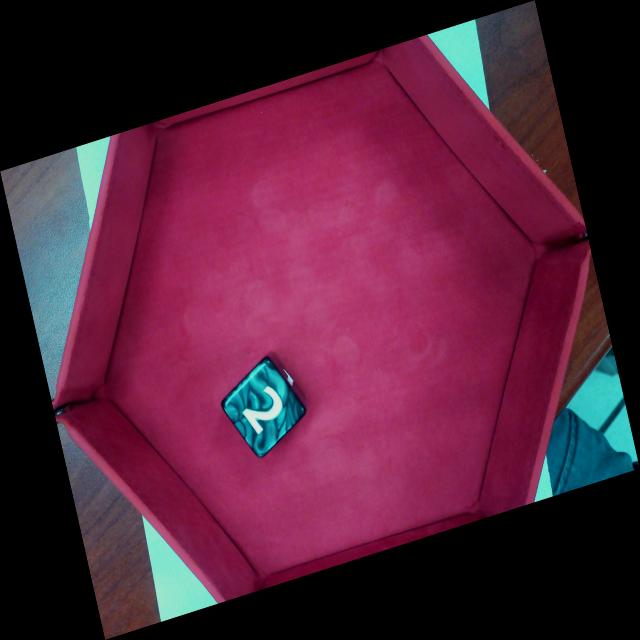dice: (223, 362, 305, 457)
